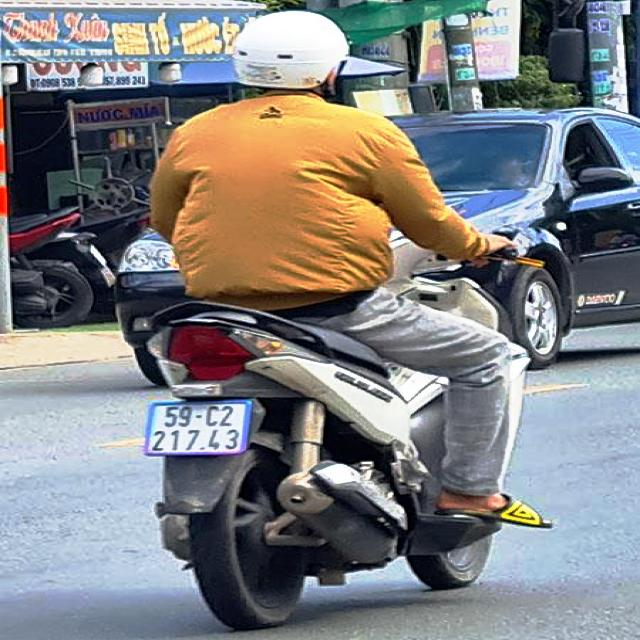license_plate: (148, 404, 251, 455)
